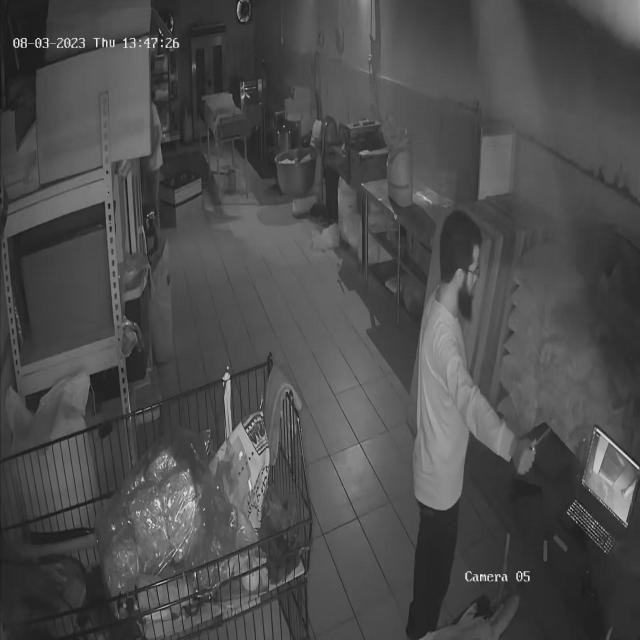Knife: (518, 408, 562, 473)
